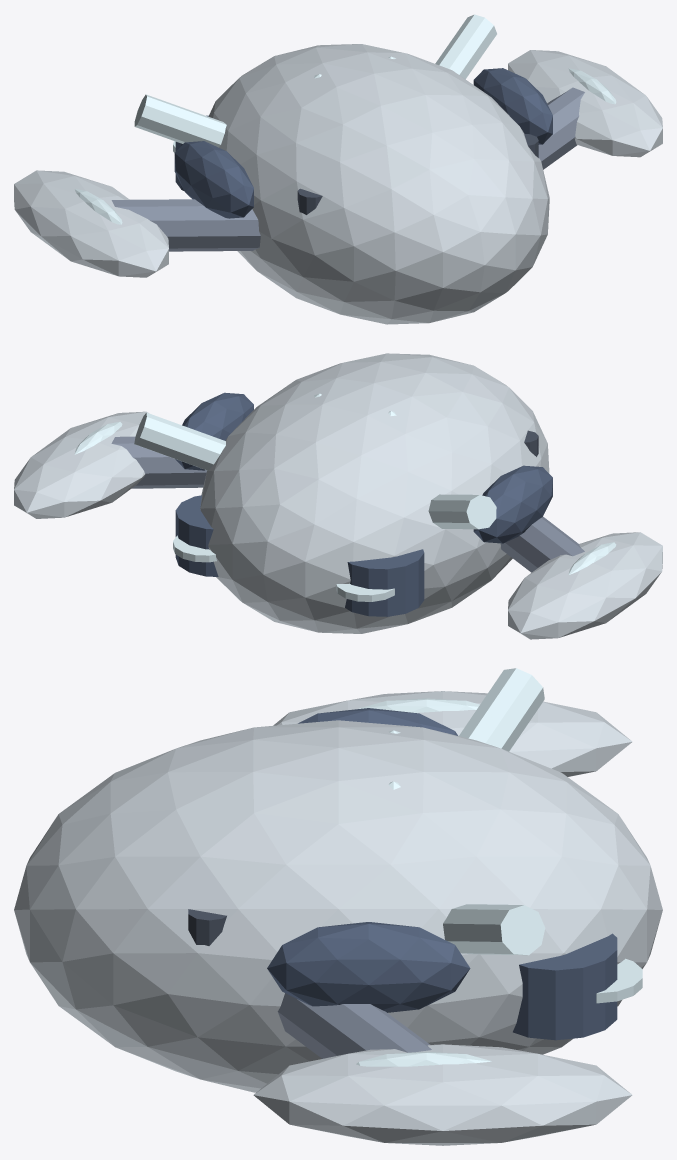
The model's file is npc_bossDevolarium.glb.
3 renders of one model, top to bottom at view 1: azimuth 30°, elevation 25°; view 2: azimuth 150°, elevation 25°; view 3: azimuth 270°, elevation 25°, orthographic. The views are drawn at different scales.
Visible parts, largest first — view 1: hull, wing_armor_-1, wing_armor_1, wingframe_-1, shield_pod_-1, shield_pod_1, boss_blade_-1, boss_blade_1, wingframe_1, wing_energy_1, wing_energy_-1; view 2: hull, wing_armor_-1, wing_armor_1, engine_-1, shield_pod_-1, boss_blade_1, wingframe_-1, wingframe_1, shield_pod_1, boss_blade_-1, engine_1, engine_light_-1 (+3 smaller); view 3: hull, wing_armor_1, shield_pod_1, wing_armor_-1, engine_1, wingframe_1, boss_blade_1, boss_blade_-1, shield_pod_-1, wing_energy_1, wing_energy_-1, engine_light_1 (+1 smaller).
Part boxes in pixels (x1,y1,x2,y2): hull: (208,44,549,324); wing_armor_-1: (14,170,168,277); wing_armor_1: (508,50,662,157); wingframe_-1: (111,199,260,251); shield_pod_-1: (174,141,253,218); shield_pod_1: (473,68,552,144); boss_blade_-1: (134,94,226,147); boss_blade_1: (435,14,496,79); wingframe_1: (538,87,584,169); wing_energy_1: (568,68,616,104); wing_energy_-1: (74,189,122,224); hull: (200,353,549,633); wing_armor_-1: (508,532,662,639); wing_armor_1: (14,411,148,518); engine_-1: (345,549,424,616); shield_pod_-1: (473,465,552,543); boss_blade_1: (134,412,225,470); wingframe_-1: (500,516,584,572); wingframe_1: (111,436,206,488); shield_pod_1: (175,392,253,470); boss_blade_-1: (428,494,496,529); engine_1: (175,495,218,576); engine_light_-1: (336,583,394,601); hull: (14,720,662,1092); wing_armor_1: (253,1044,632,1145); shield_pod_1: (267,922,470,1012); wing_armor_-1: (273,691,632,776); engine_1: (513,933,617,1040); wingframe_1: (277,993,431,1058); boss_blade_1: (443,904,545,955); boss_blade_-1: (459,668,544,751); shield_pod_-1: (298,708,457,735); wing_energy_1: (356,1051,491,1066); wing_energy_-1: (358,698,479,712); engine_light_1: (596,958,642,1003).
Bounding box in the file's own units: 4.32 × 1.53 × 2.78.
